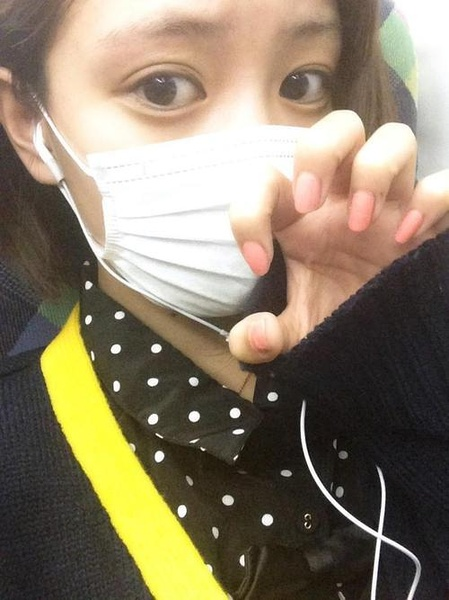face_mask: (71, 1, 360, 316)
